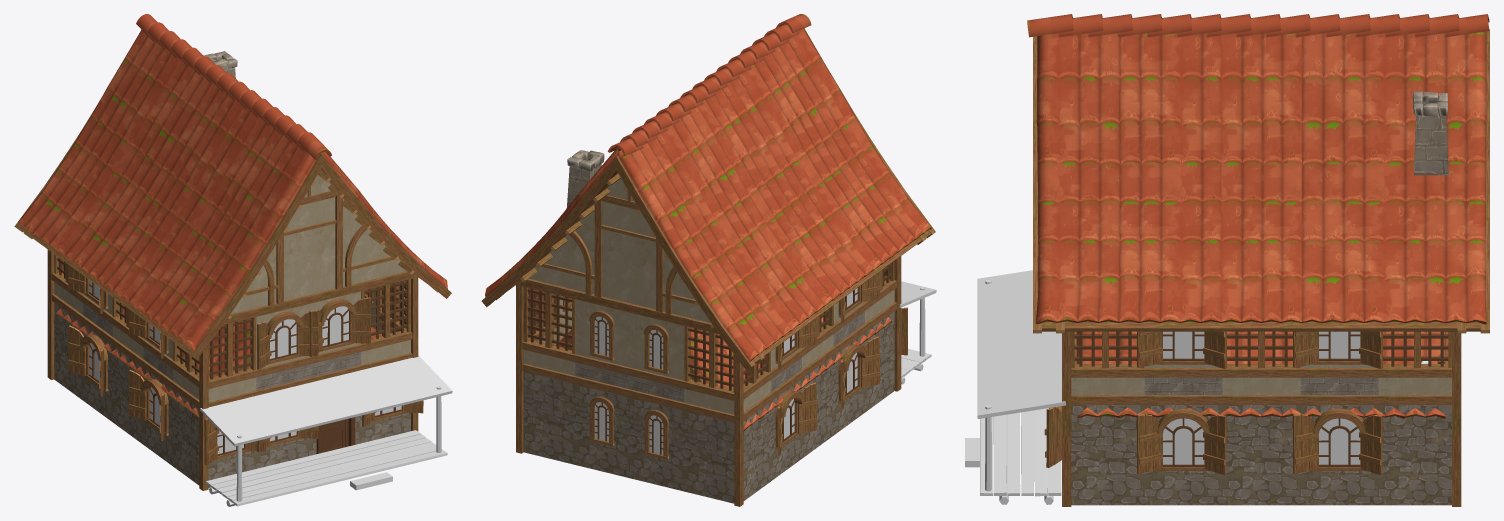
The model's file is home.gltf.
3 views of the same model, side by side, from view 1: azimuth 30°, elevation 25°; view 2: azimuth 150°, elevation 25°; view 3: azimuth 270°, elevation 25° (orthographic). The views are drawn at different scales.
Visible parts, largest first — view 1: T4_KitRoofRoundTiles8x10134, T4_KitRoofFrontBrick8135, T4_PorchRoof194, T4_KitWallPlasterWoodGrid071, T4_KitWallPlasterWoodGrid080, T4_KitWallUnevenBrickStraight035, T4_KitWallUnevenBrickStraight030, T4_KitWallUnevenBrickStraight025, T4_KitWallPlasterWindowWideRound072, T4_KitWallPlasterWindowWideRound076, T4_PorchPlank191, T4_KitWallUnevenBrickWindowWideRound031 (+36 smaller); view 2: T4_KitRoofRoundTiles8x10134, T4_KitRoofFrontBrick8136, T4_KitWallUnevenBrickStraight017, T4_KitWallUnevenBrickStraight024, T4_KitWallUnevenBrickWindowThinRound021, T4_KitWallUnevenBrickWindowThinRound018, T4_KitWallPlasterWoodGrid081, T4_KitWallPlasterWoodGrid088, T4_KitWallPlasterWindowThinRound085, T4_KitWallPlasterWindowThinRound082, T4_KitWallUnevenBrickStraight025, T4_KitWallUnevenBrickStraight030 (+27 smaller); view 3: T4_KitRoofRoundTiles8x10134, T4_PorchRoof194, T4_KitWallUnevenBrickStraight041, T4_KitWallUnevenBrickStraight046, T4_KitWallUnevenBrickStraight036, T4_KitWallUnevenBrickWindowWideRound042, T4_KitWallUnevenBrickWindowWideRound037, T4_KitWallPlasterWoodGrid105, T4_KitWallPlasterWoodGrid110, T3_KitRoofRoundTiles6x8051, T4_KitWallPlasterWoodGrid100, T4_KitPropChimney159 (+25 smaller).
Boxes of the visible parts, bbox=[...] form: T4_KitRoofRoundTiles8x10134: bbox=[14, 14, 451, 359]; T4_KitRoofFrontBrick8135: bbox=[223, 170, 418, 324]; T4_PorchRoof194: bbox=[200, 355, 452, 446]; T4_KitWallPlasterWoodGrid071: bbox=[208, 317, 257, 402]; T4_KitWallPlasterWoodGrid080: bbox=[361, 279, 412, 364]; T4_KitWallUnevenBrickStraight035: bbox=[171, 381, 199, 485]; T4_KitWallUnevenBrickStraight030: bbox=[110, 337, 143, 444]; T4_KitWallUnevenBrickStraight025: bbox=[51, 294, 82, 399]; T4_KitWallPlasterWindowWideRound072: bbox=[256, 304, 310, 390]; T4_KitWallPlasterWindowWideRound076: bbox=[309, 291, 362, 377]; T4_PorchPlank191: bbox=[232, 449, 447, 506]; T4_KitWallUnevenBrickWindowWideRound031: bbox=[141, 359, 173, 466]; T4_KitRoofRoundTiles8x10134: bbox=[481, 14, 935, 370]; T4_KitRoofFrontBrick8136: bbox=[515, 173, 718, 334]; T4_KitWallUnevenBrickStraight017: bbox=[522, 363, 575, 464]; T4_KitWallUnevenBrickStraight024: bbox=[683, 402, 734, 503]; T4_KitWallUnevenBrickWindowThinRound021: bbox=[628, 389, 684, 491]; T4_KitWallUnevenBrickWindowThinRound018: bbox=[574, 376, 629, 478]; T4_KitWallPlasterWoodGrid081: bbox=[522, 286, 575, 375]; T4_KitWallPlasterWoodGrid088: bbox=[683, 326, 734, 414]; T4_KitWallPlasterWindowThinRound085: bbox=[628, 312, 684, 402]; T4_KitWallPlasterWindowThinRound082: bbox=[574, 299, 629, 389]; T4_KitWallUnevenBrickStraight025: bbox=[743, 393, 772, 500]; T4_KitWallUnevenBrickStraight030: bbox=[802, 347, 835, 458]; T4_KitRoofRoundTiles8x10134: bbox=[1027, 14, 1489, 333]; T4_PorchRoof194: bbox=[977, 270, 1066, 418]; T4_KitWallUnevenBrickStraight041: bbox=[1222, 395, 1300, 505]; T4_KitWallUnevenBrickStraight046: bbox=[1378, 395, 1451, 505]; T4_KitWallUnevenBrickStraight036: bbox=[1071, 395, 1144, 505]; T4_KitWallUnevenBrickWindowWideRound042: bbox=[1300, 395, 1378, 505]; T4_KitWallUnevenBrickWindowWideRound037: bbox=[1144, 395, 1222, 505]; T4_KitWallPlasterWoodGrid105: bbox=[1222, 331, 1300, 394]; T4_KitWallPlasterWoodGrid110: bbox=[1378, 331, 1451, 394]; T3_KitRoofRoundTiles6x8051: bbox=[1074, 331, 1448, 418]; T4_KitWallPlasterWoodGrid100: bbox=[1071, 331, 1144, 394]; T4_KitPropChimney159: bbox=[1412, 91, 1448, 175].
Size of the model in its own units: 9.95 by 12.06 by 13.45.
Materials: 69 (69 with a texture image).
